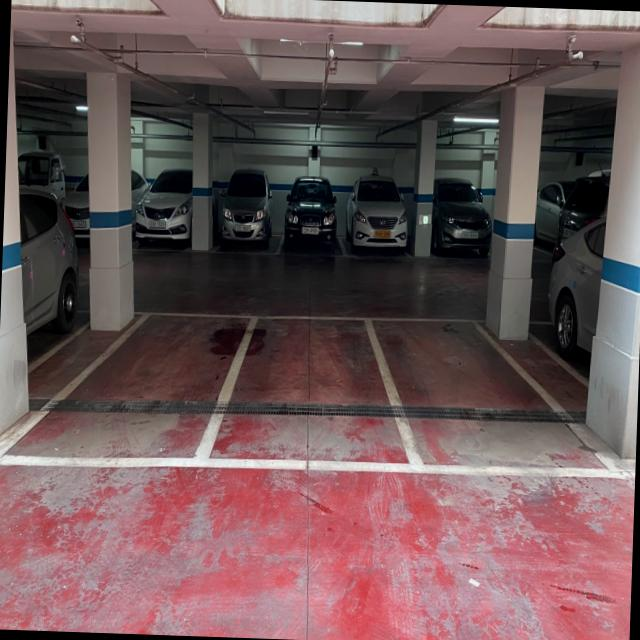car: (339, 178, 411, 259), (212, 170, 280, 254), (133, 167, 200, 251), (281, 178, 340, 258)
free: (364, 319, 626, 476), (8, 308, 254, 448), (216, 312, 390, 412)
